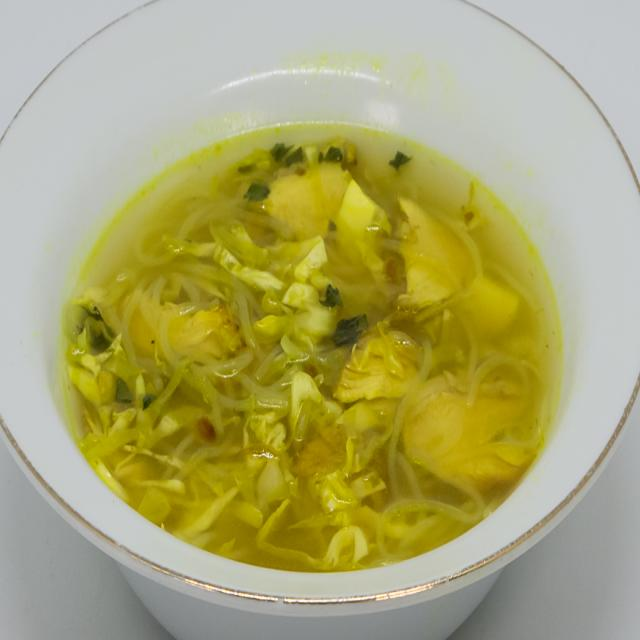Soto-Lamongan: (52, 88, 586, 596)
